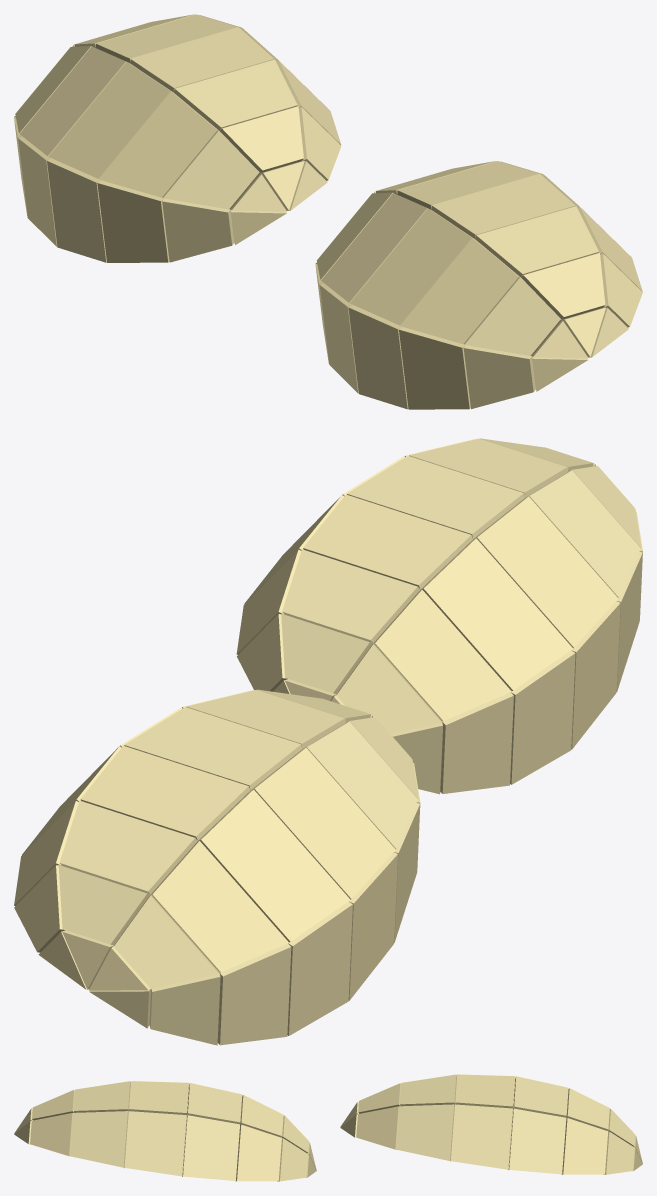
The model's file is antepkabuk.fbx.
3 views of the same model, one above another, from view 1: azimuth 30°, elevation 25°; view 2: azimuth 150°, elevation 25°; view 3: azimuth 270°, elevation 25° (orthographic). The views are drawn at different scales.
Visible parts, largest first — view 1: kurdanatar_ust.012, kurdanatar_ust.013; view 2: kurdanatar_ust.013, kurdanatar_ust.012; view 3: kurdanatar_ust.012, kurdanatar_ust.013.
Part boxes in pixels (bbox=[...]): kurdanatar_ust.012: bbox=[315, 161, 642, 409]; kurdanatar_ust.013: bbox=[14, 14, 341, 262]; kurdanatar_ust.013: bbox=[14, 689, 420, 1045]; kurdanatar_ust.012: bbox=[236, 438, 642, 794]; kurdanatar_ust.012: bbox=[14, 1081, 316, 1181]; kurdanatar_ust.013: bbox=[340, 1074, 642, 1174].
Size of the model in its own units: 56.02 by 34.11 by 149.
Materials: 1 (1 with a texture image).
